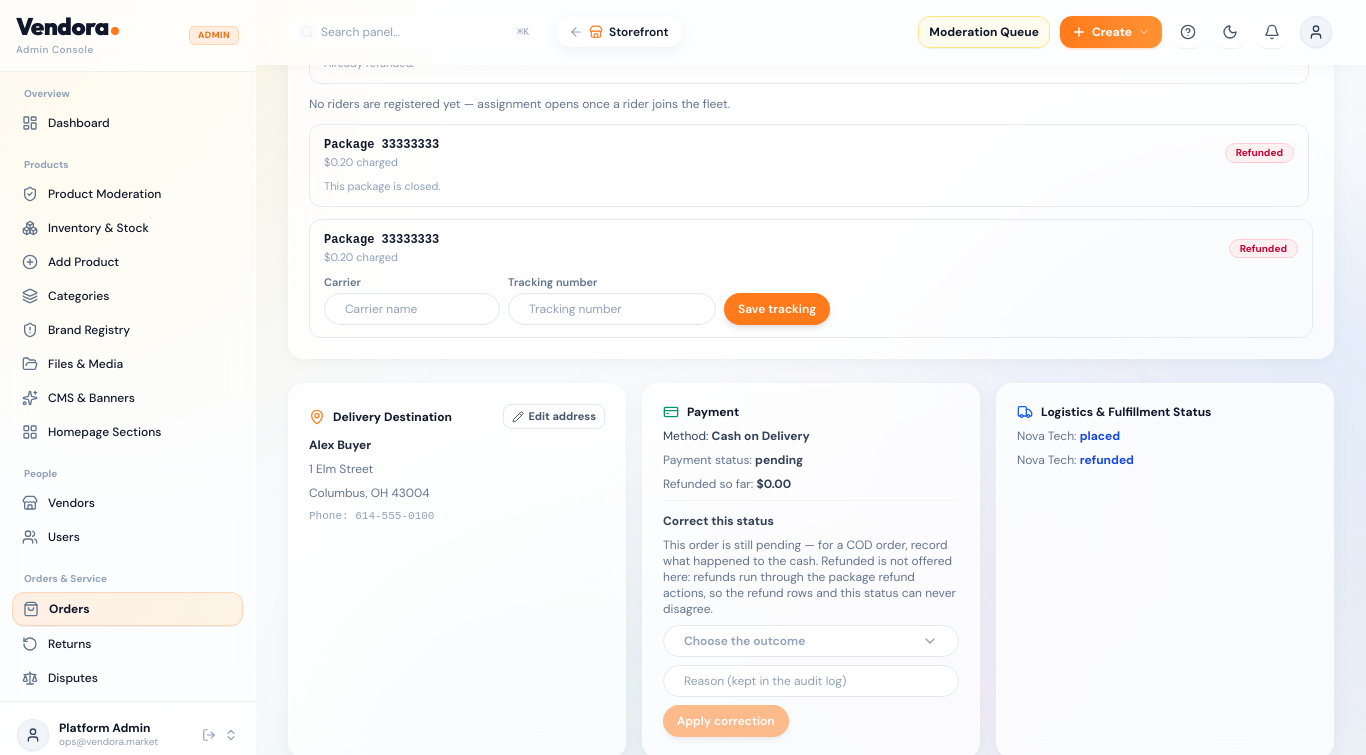
Test: AdminOrderDetailPage order corrections › edits the delivery address through the audited RPC, behind a confirm step
(page scrolled)
Click the button "Edit address": (554,417) [503,404,605,429]
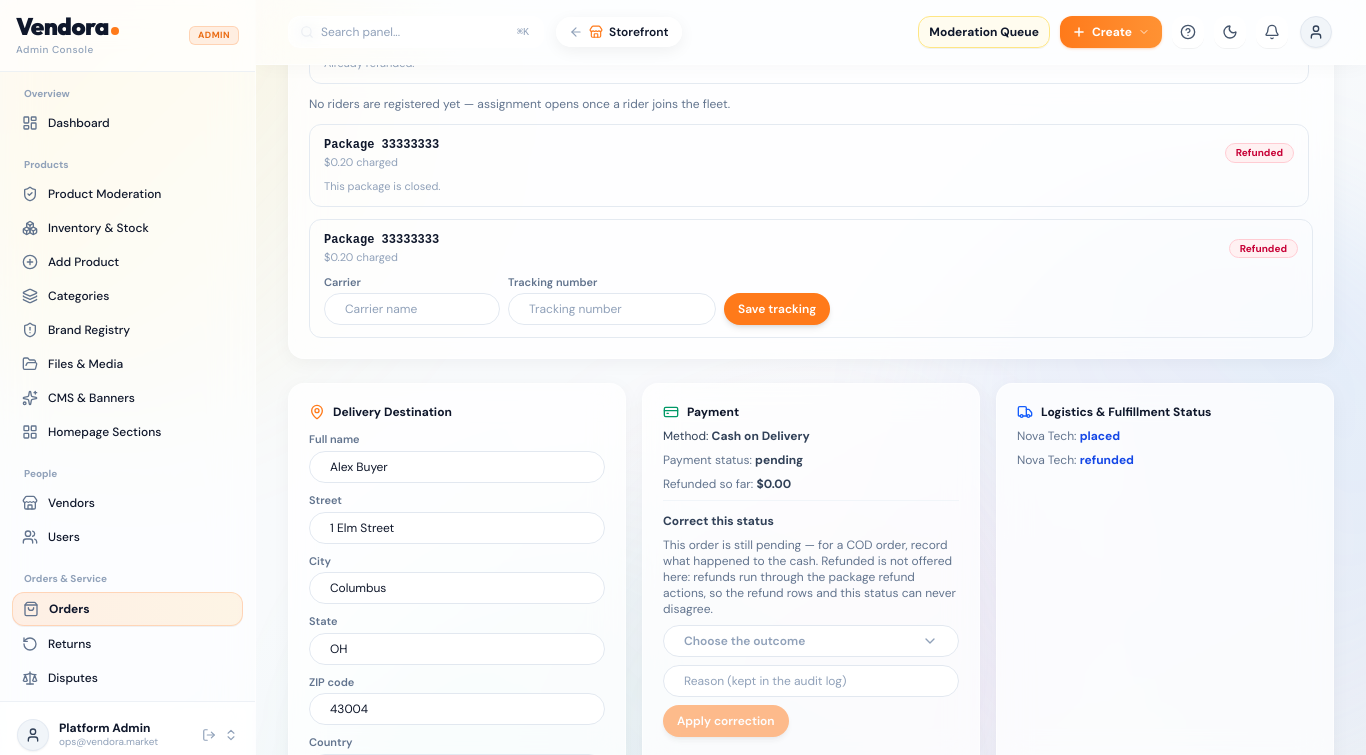
Now the field labelled "Street" holds "1 Elm Street", box [309,512,605,544]
Replace the text in the field labelled "City" with "Lahore": (457,588) [309,572,605,604]
(page scrolled)
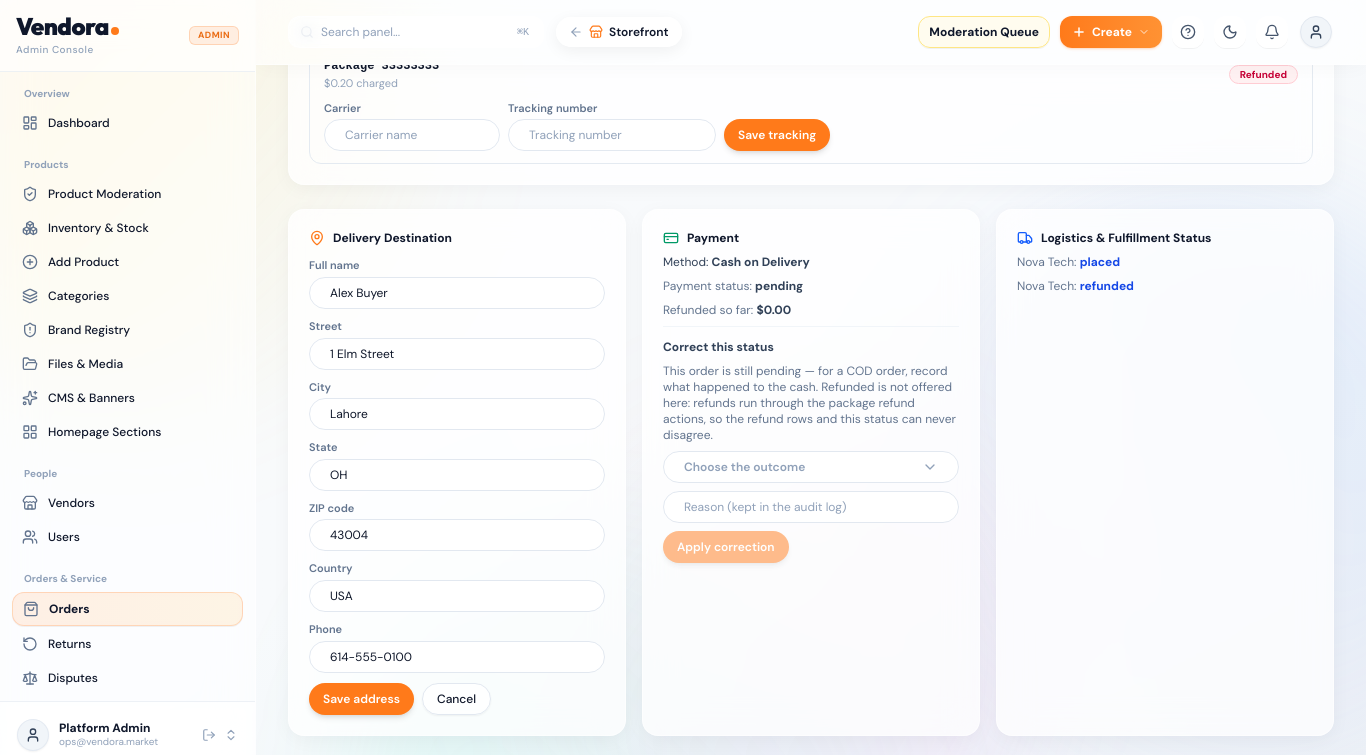
Replace the text in the field labelled "Phone" with "0300-1112233": (457,657) [309,641,605,673]
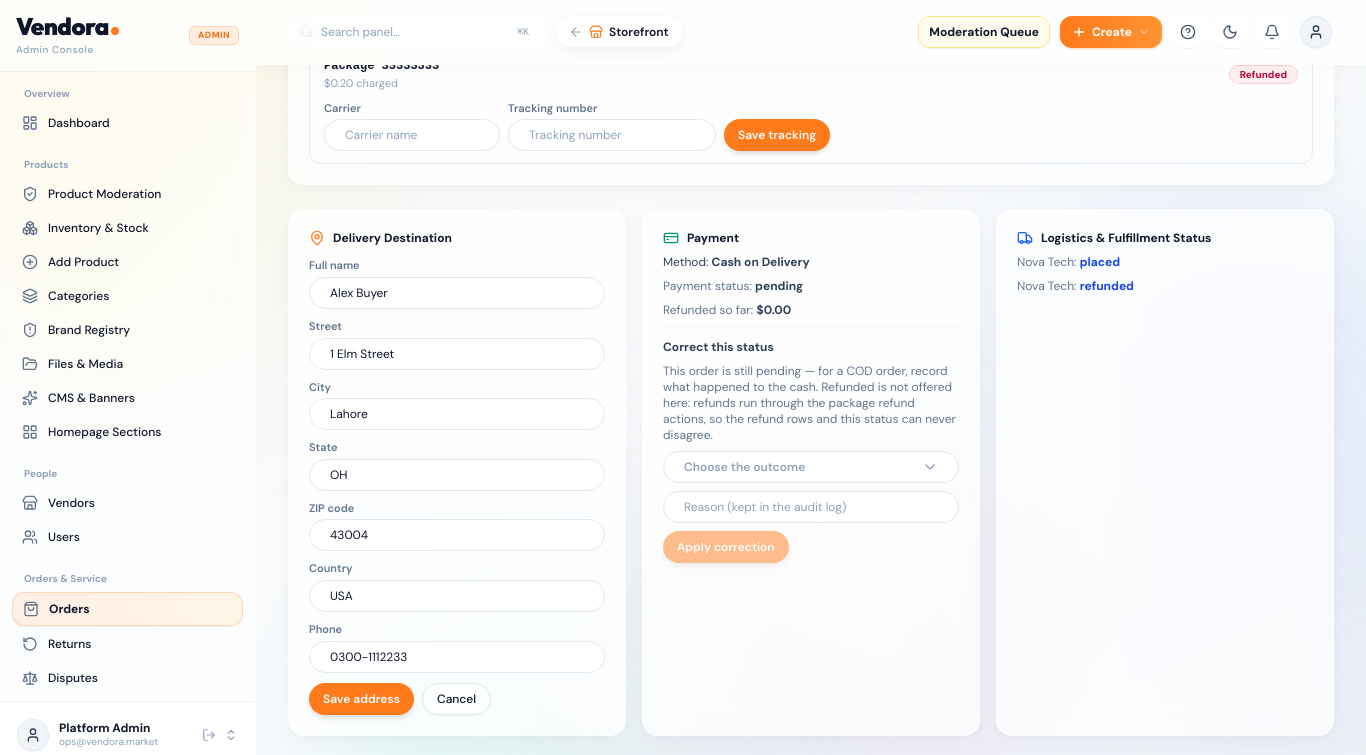
Click the button "Save address": (361,699) [309,683,414,715]
(page scrolled)
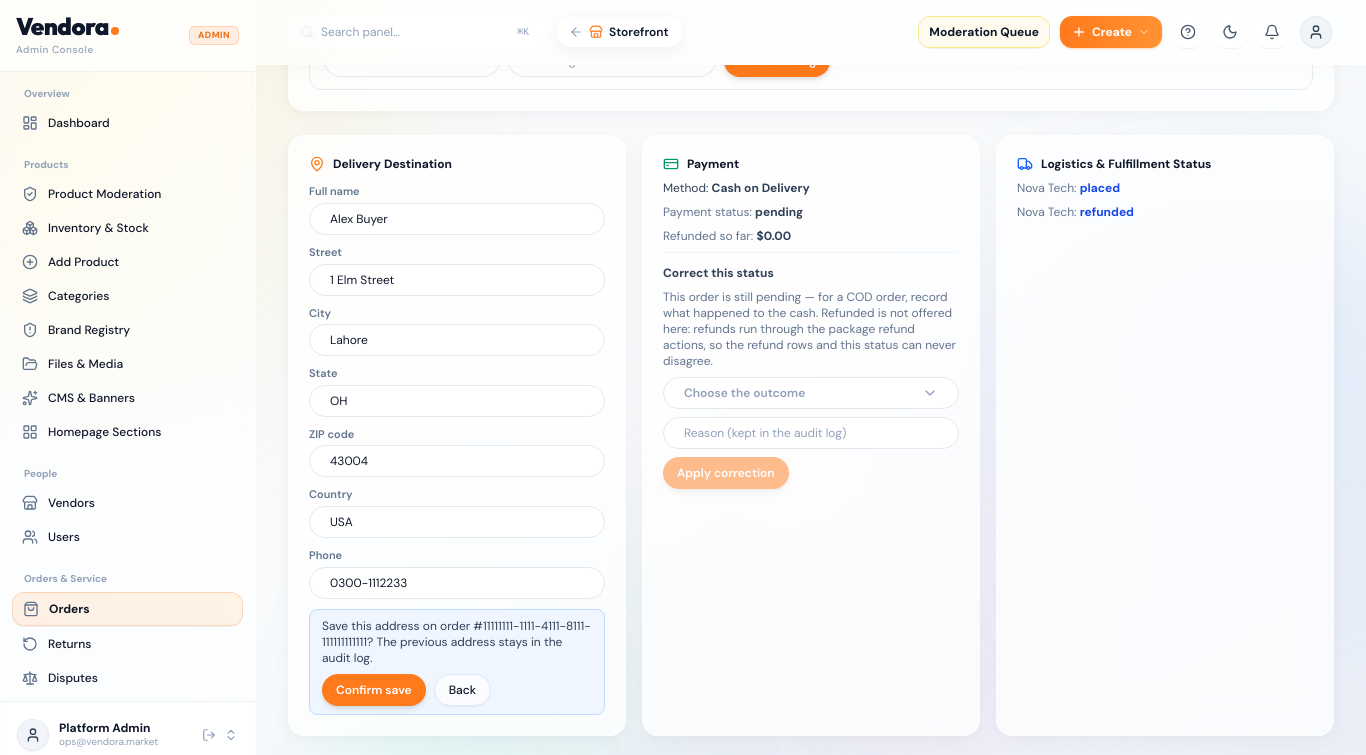
Click the button "Confirm save": (374,690) [322,674,426,706]
(page scrolled)
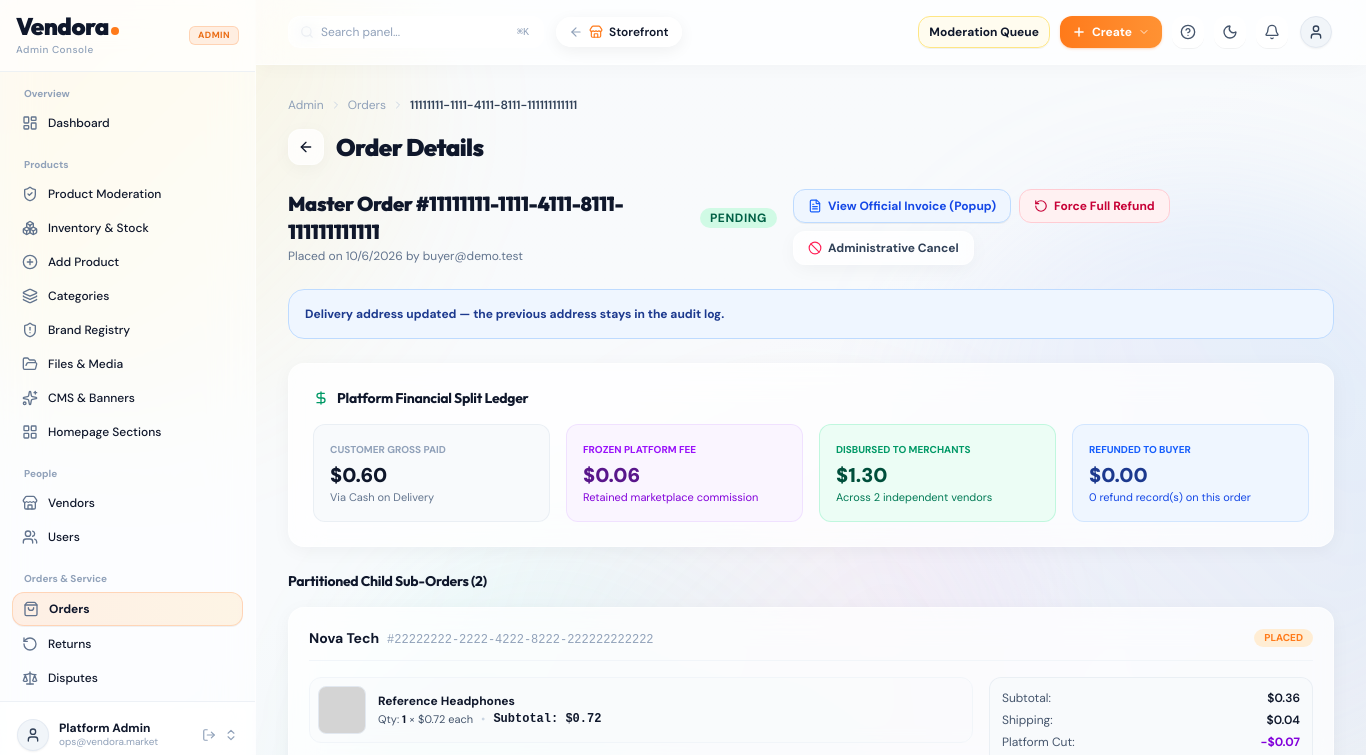
Now the text "Delivery address updated" is shown, box [305,306,724,322]
